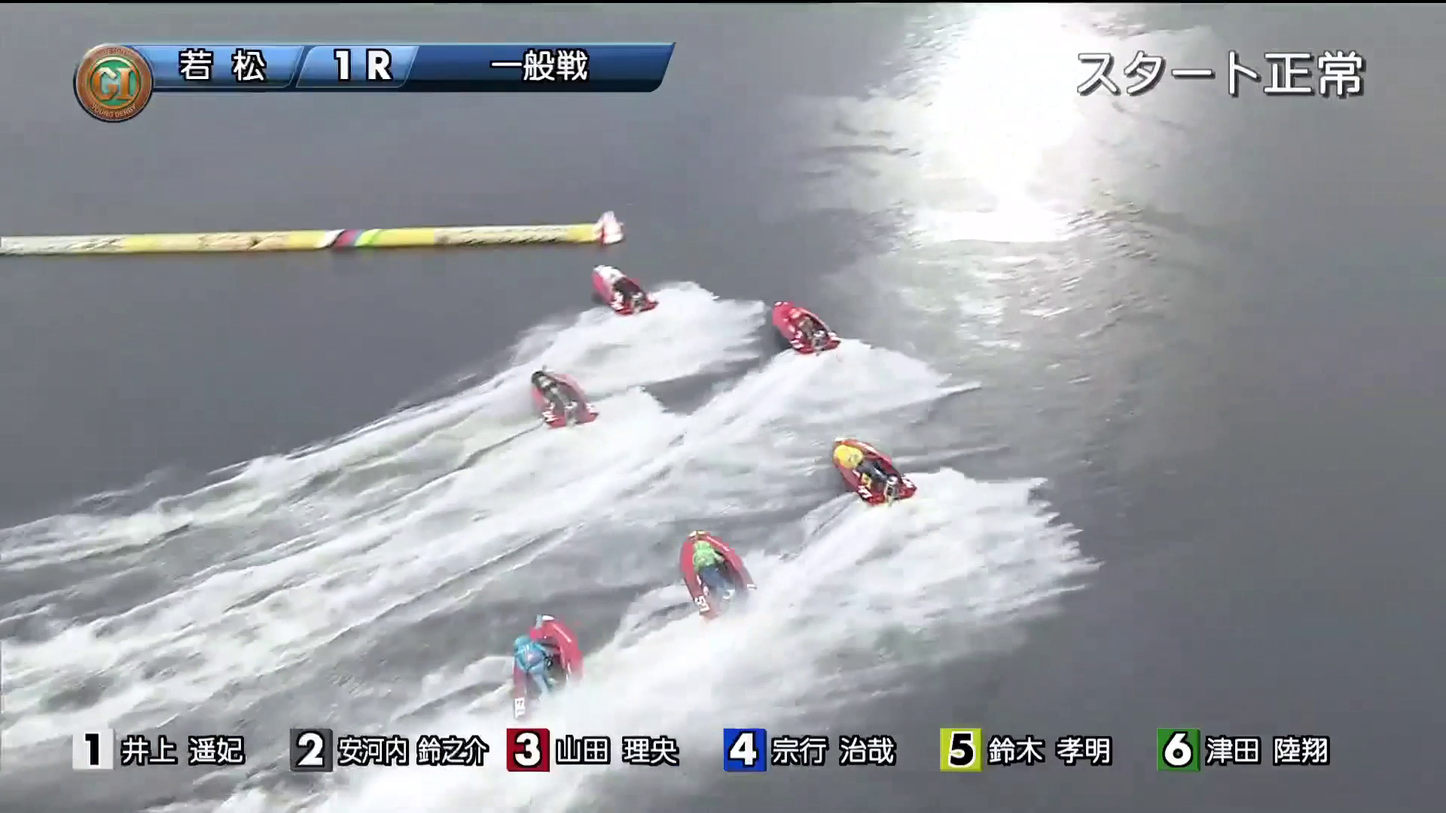１号艇: (598, 256, 669, 310)
２号艇: (521, 367, 650, 427)
３号艇: (773, 299, 871, 346)
４号艇: (672, 537, 806, 602)
５号艇: (489, 634, 613, 689)
６号艇: (845, 445, 945, 501)
